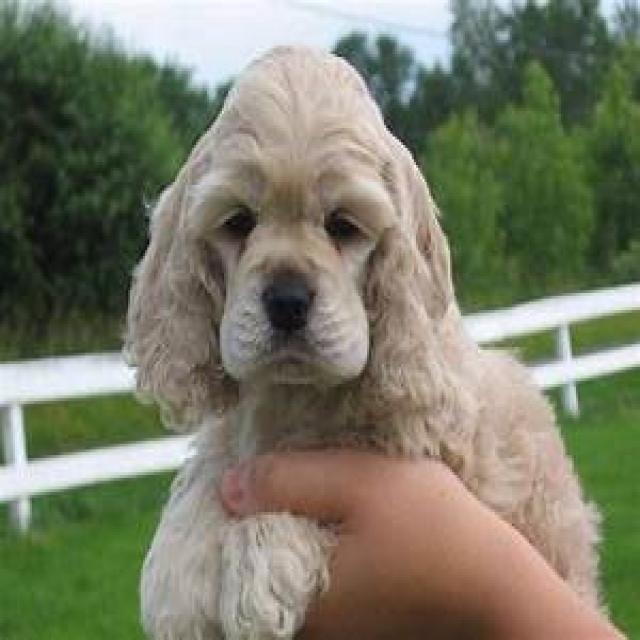dog: (124, 46, 625, 640)
